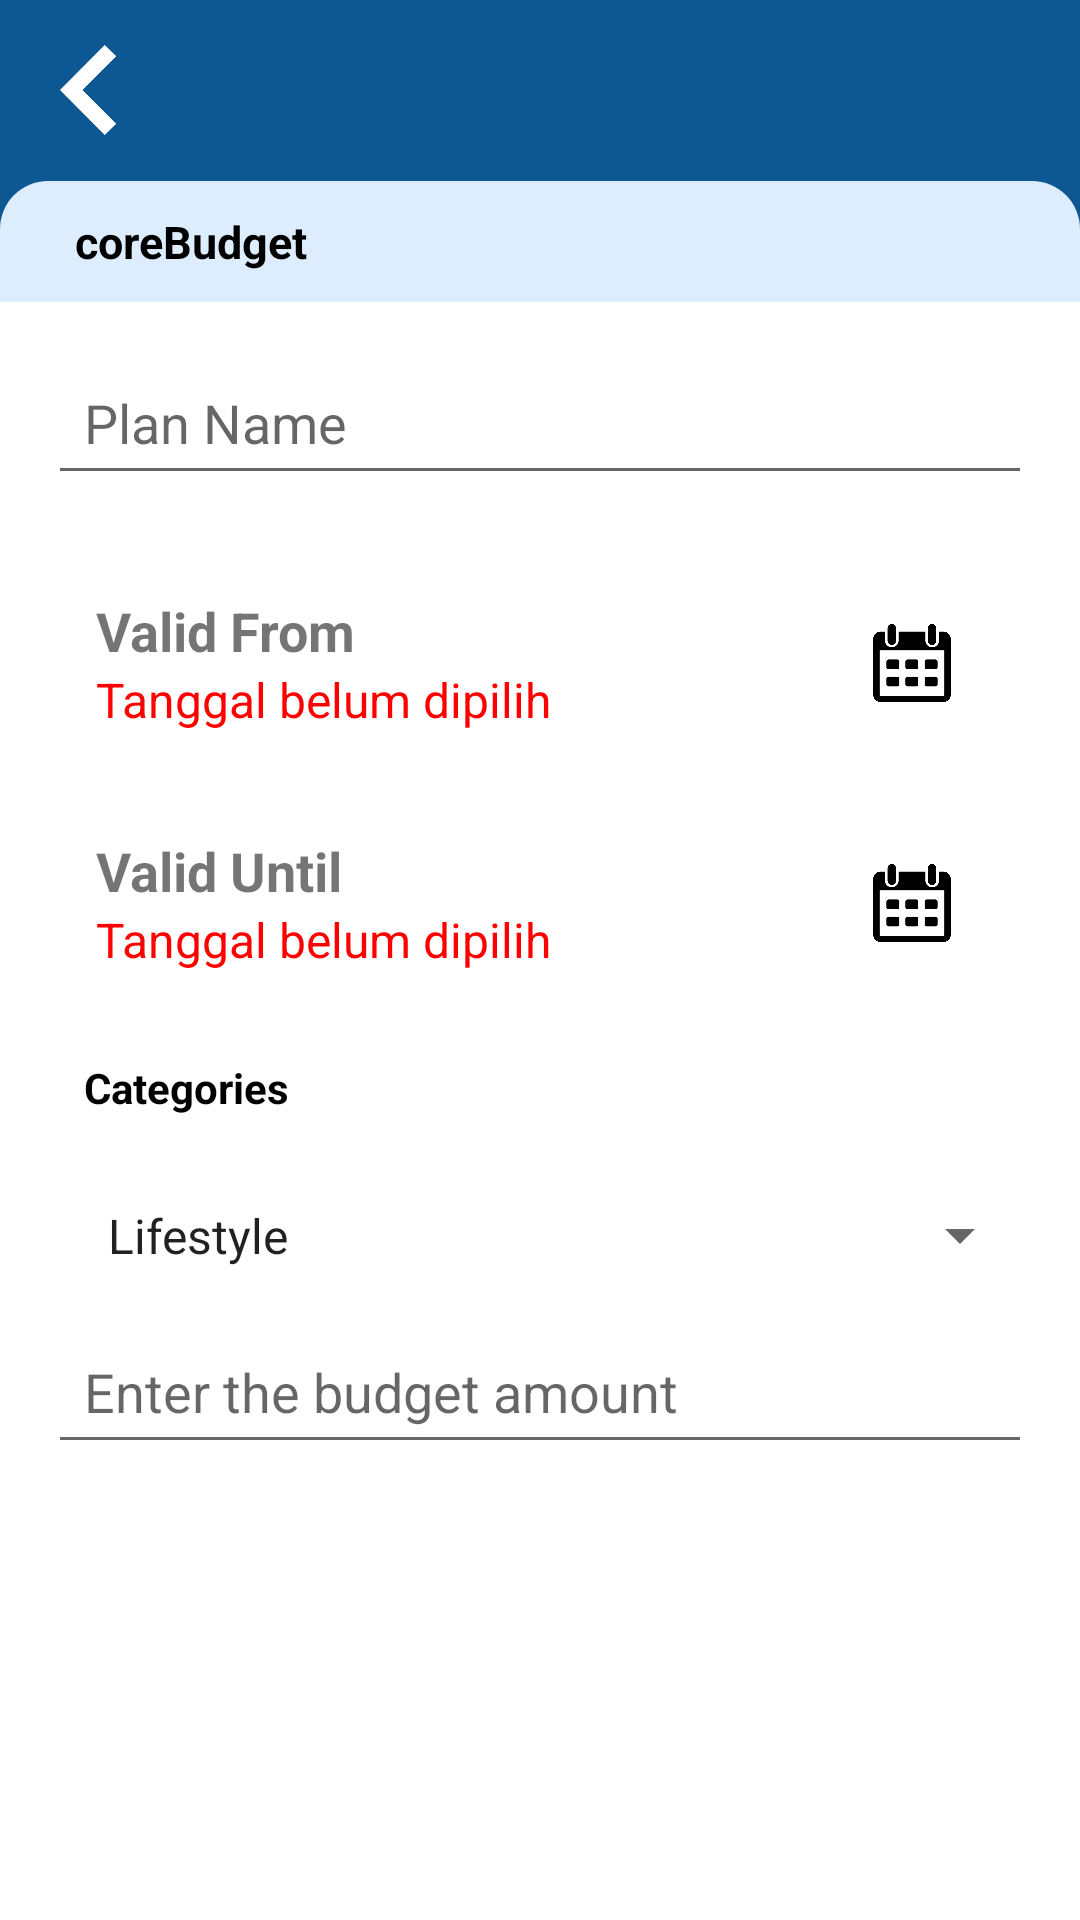

Where icons sit on this 1080*1920 app screen, as bbox=(x1, y1, x2, y2):
Pilih Tanggal: bbox=(873, 624, 951, 702), bbox=(873, 864, 951, 942)
